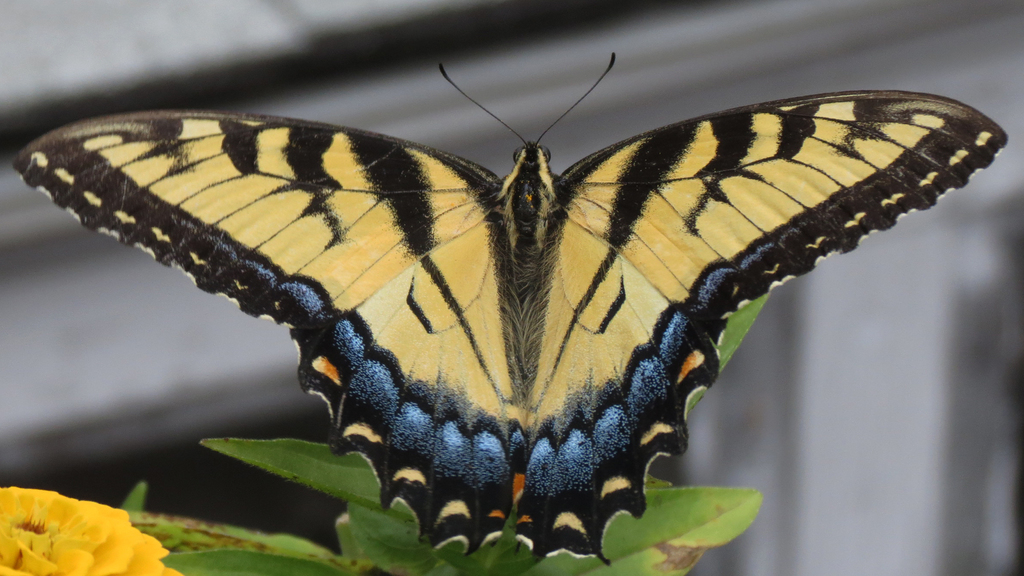Butterfly: (12, 44, 1011, 562)
